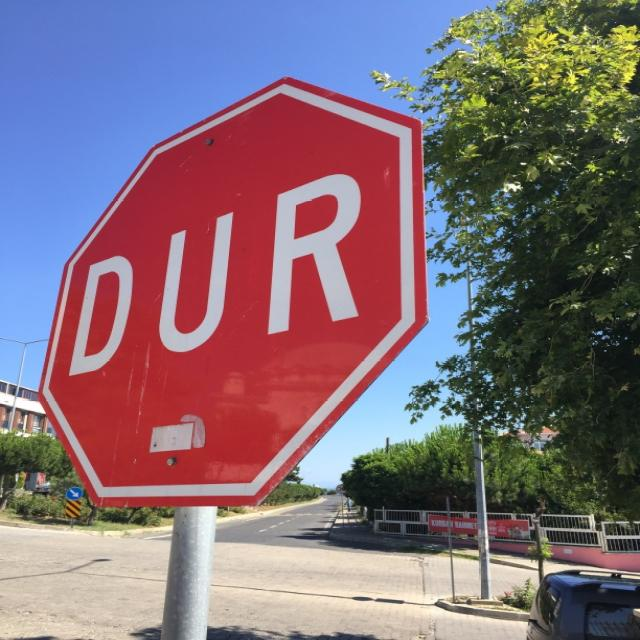dur: (38, 76, 426, 508)
